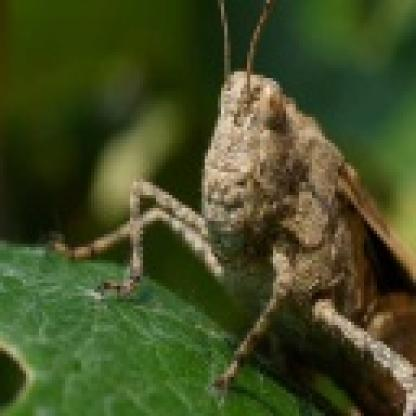grasshopper: (59, 2, 416, 414)
